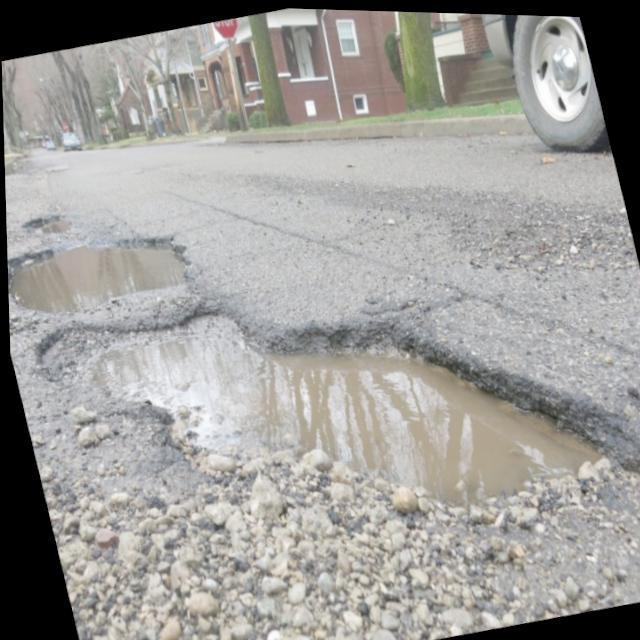Pothole: (39, 301, 635, 514), (11, 248, 185, 312), (22, 215, 70, 232)
